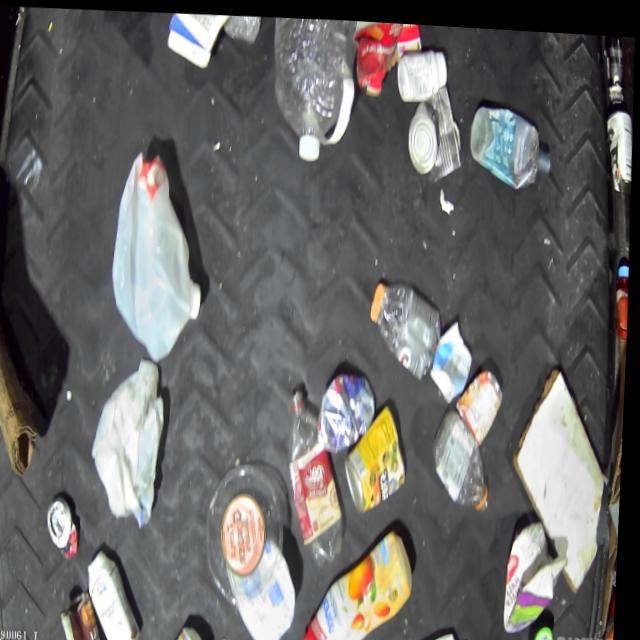can: (343, 394, 413, 514), (406, 76, 466, 182), (456, 358, 509, 443), (602, 97, 635, 190), (48, 492, 87, 559), (602, 28, 625, 98)
milk_jug: (107, 143, 212, 365), (90, 351, 173, 533)
non_white_jug: (305, 517, 422, 640)
plastic_bottle: (266, 13, 357, 160), (285, 377, 355, 565), (430, 397, 498, 513)
